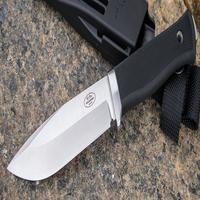knife: (7, 13, 197, 185)
